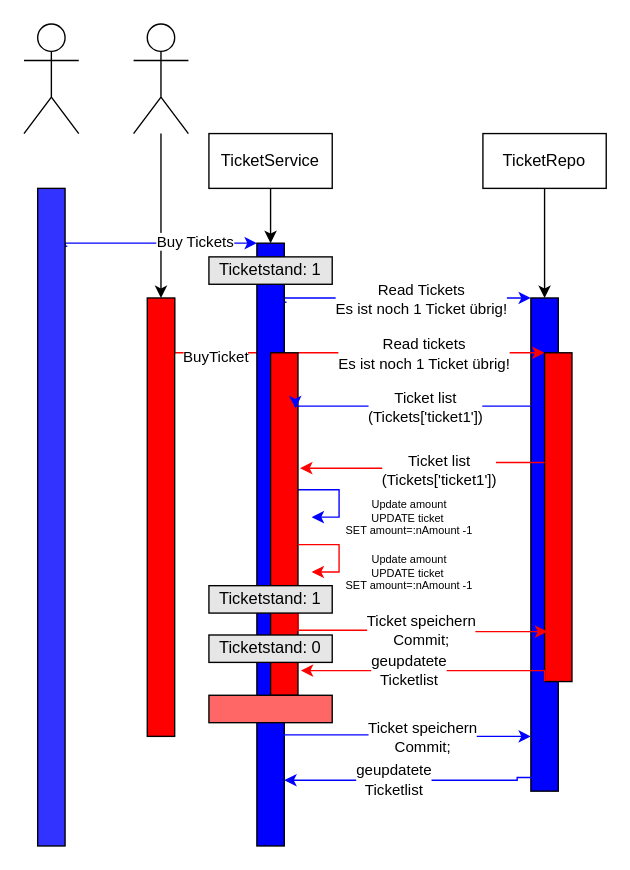
The diagram is 630 pixels wide and 870 high, and some of its shapes have lost their labels. The shapes that lost their labels are listed below. From the top down, each one's centre as x and y in pixels, then its label:
point 51,78: User 1
point 160,78: User 2
point 270,708: Ticketstand: -1
